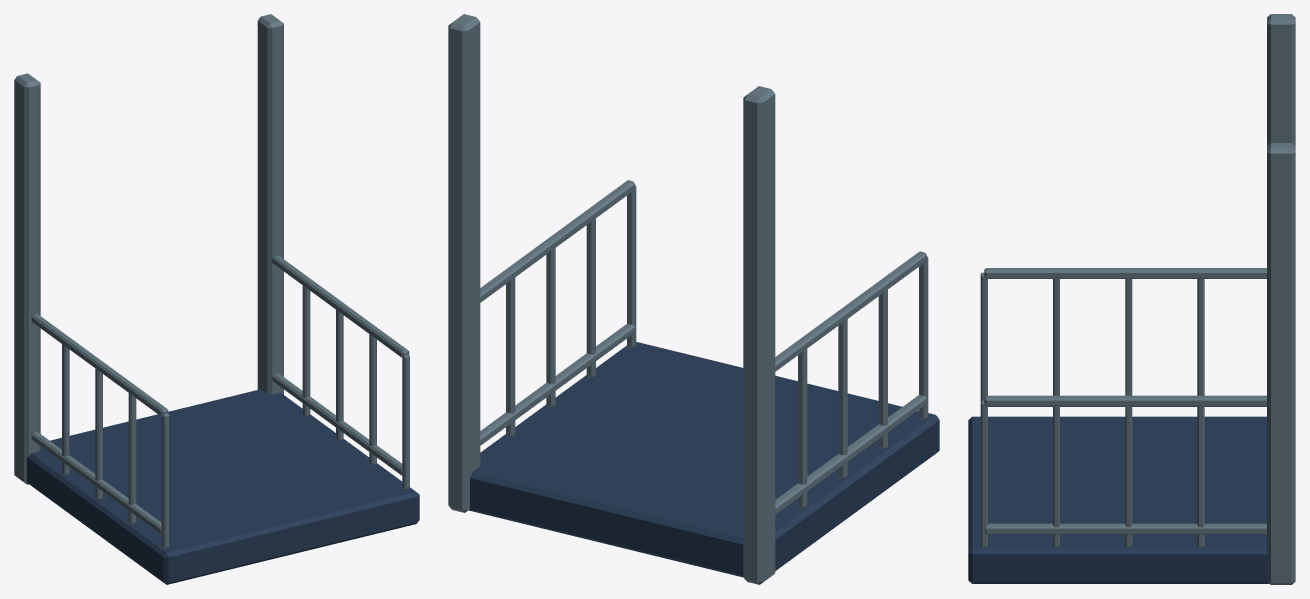
File: architecture-lift.lod0.glb
The picture shows the model from 3 angles, left to right: view 1: azimuth 30°, elevation 25°; view 2: azimuth 150°, elevation 25°; view 3: azimuth 270°, elevation 25°; orthographic projection. The views are drawn at different scales.
Visible parts, largest first — view 1: architecture-lift__platform, architecture-lift__body; view 2: architecture-lift__platform, architecture-lift__body; view 3: architecture-lift__platform, architecture-lift__body.
Boxes of the visible parts, x1,y1,x2,y2 form: architecture-lift__platform: (27,255,419,584); architecture-lift__body: (14,14,283,484); architecture-lift__platform: (468,180,939,577); architecture-lift__body: (448,14,775,584); architecture-lift__platform: (968,268,1269,583); architecture-lift__body: (1267,14,1295,584).
Bounding box in the file's own units: 2.03 × 3 × 2.04.
